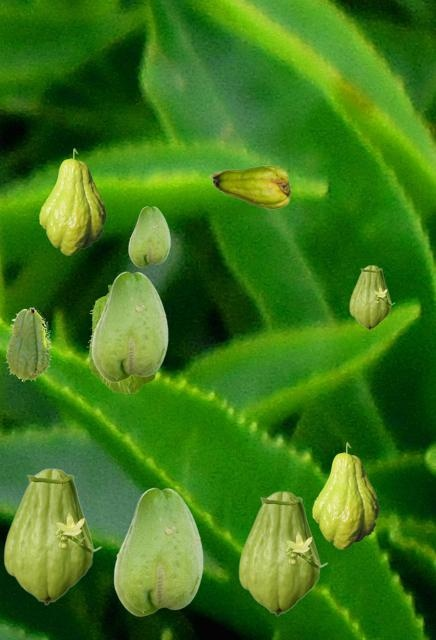sayote: (3, 468, 101, 604), (113, 487, 202, 615), (238, 491, 327, 615), (91, 271, 167, 381), (86, 284, 159, 393), (39, 148, 105, 254), (312, 442, 378, 548), (209, 165, 289, 208), (5, 307, 51, 381), (349, 265, 394, 329), (128, 206, 169, 266)
